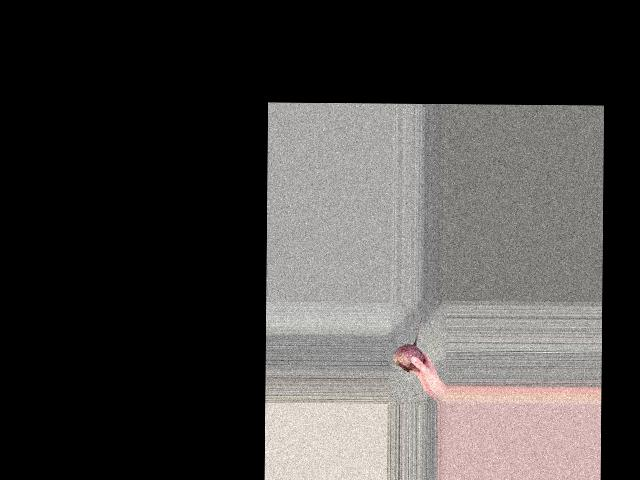beet: (393, 317, 423, 371)
